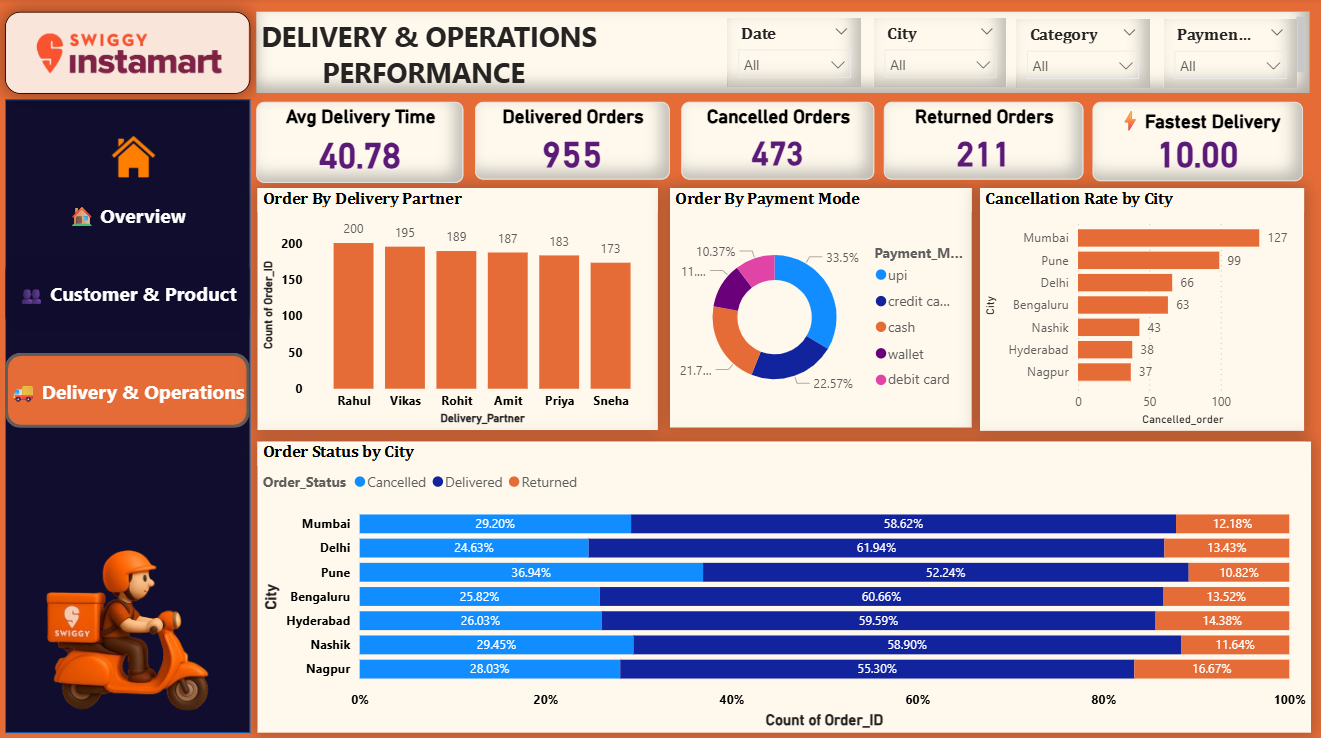

The page's visual inventory and layout, read from the dashboard file:
{"tool":"powerbi","page":{"name":"DELIVERY & OPERATIONS          PERFORMANCE","canvas":[1280,720],"ordinal":3},"visuals":[{"type":"textbox","box":[252.1,13.3,1017,78.4],"z":0},{"type":"shape","box":[9.4,97.5,236.9,611.9],"z":1000},{"type":"image","box":[101.5,130.8,64.8,45.2],"z":2000},{"type":"image","box":[0,473.1,260.6,246.6],"z":3000},{"type":"slicer","fields":{"Values":["DateTable.Date"]},"box":[717.1,17.3,128.4,66.4],"z":4000},{"type":"actionButton","box":[9.8,183.4,236,51.4],"z":8000},{"type":"actionButton","box":[9.8,342.4,236,72.1],"z":9000},{"type":"image","box":[10.1,13,236.6,79.4],"z":10000},{"type":"columnChart","title":"Delivery Partner Performance","fields":{"Category":["swiggy_instamartdb swiggy_instamart_final.Delivery_Partner"],"Y":["Table.Total Orders"]},"box":[252.8,183,398.6,232.7],"z":11000},{"type":"columnChart","title":"Customers by Payment Mode","fields":{"Category":["swiggy_instamartdb swiggy_instamart_final.Payment_Mode"],"Y":["CountNonNull(swiggy_instamartdb swiggy_instamart_final.Order_ID)"]},"box":[1051.7,426.6,218.7,282.3],"z":12000},{"type":"clusteredBarChart","title":"Average Delivery Time by City","fields":{"Y":["Table.Avg Delivery Time"],"Category":["swiggy_instamartdb swiggy_instamart_final.City"]},"box":[660.8,426.6,383.1,282.3],"z":13000},{"type":"barChart","title":"Cancellation Rate by City","fields":{"Category":["swiggy_instamartdb swiggy_instamart_final.City"],"Y":["Table.Cancelled_order"]},"box":[252.8,423.5,398.6,285.4],"z":14000},{"type":"card","title":"Avg Delivery Time","fields":{"Values":["Table.Avg Delivery Time"]},"box":[252.1,100.1,177.3,76],"z":15000},{"type":"card","title":"Delivered Orders","fields":{"Values":["Table.Delivered Orders"]},"box":[437.9,100.1,158,76],"z":16000},{"type":"card","title":"Cancelled Orders","fields":{"Values":["Table.Cancelled_order"]},"box":[604.4,100.1,170.1,76],"z":17000},{"type":"card","title":" Returned Orders","fields":{"Values":["Table.Total Quantity"]},"box":[965.2,102.5,158,74.8],"z":18000},{"type":"card","title":"Delivery Success","fields":{"Values":["Table.Delivery Success %"]},"box":[1128.6,103.1,141.2,76.3],"z":19000},{"type":"card","title":"⚡Fastest Delivery","fields":{"Values":["Table.Fastest Delivery"]},"box":[781.8,100.8,176.8,76],"z":20000},{"type":"hundredPercentStackedBarChart","title":"Order Status by City","fields":{"Category":["swiggy_instamartdb swiggy_instamart_final.City"],"Series":["swiggy_instamartdb swiggy_instamart_final.Order_Status"],"Y":["CountNonNull(swiggy_instamartdb swiggy_instamart_final.Order_ID)"]},"box":[662.3,183,608.1,232.7],"z":21000},{"type":"actionButton","box":[10.1,248.2,236.6,73.6],"z":22000},{"type":"slicer","fields":{"Values":["swiggy_instamartdb swiggy_instamart_final.City"]},"box":[852.5,19.1,126,66.2],"z":22001},{"type":"slicer","fields":{"Values":["swiggy_instamartdb swiggy_instamart_final.Category"]},"box":[987.4,19.1,128.5,66.2],"z":22002},{"type":"slicer","fields":{"Values":["swiggy_instamartdb swiggy_instamart_final.Payment_Mode"]},"box":[1123.5,19.1,128.5,66.2],"z":22003}]}

Visuals, with their boxes in screenshot pixels (x1, y1, x2, y2), scaled from the page's 1280x720 canvas onto the 1321x738 screenshot:
textbox: x1=260 y1=14 x2=1310 y2=94
shape: x1=10 y1=100 x2=254 y2=727
image: x1=105 y1=134 x2=172 y2=180
image: x1=0 y1=485 x2=269 y2=737
slicer - DateTable.Date: x1=740 y1=18 x2=873 y2=86
actionButton: x1=10 y1=188 x2=254 y2=241
actionButton: x1=10 y1=351 x2=254 y2=425
image: x1=10 y1=13 x2=255 y2=95
"Delivery Partner Performance" columnChart: x1=261 y1=188 x2=672 y2=426
"Customers by Payment Mode" columnChart: x1=1085 y1=437 x2=1311 y2=727
"Average Delivery Time by City" clusteredBarChart: x1=682 y1=437 x2=1077 y2=727
"Cancellation Rate by City" barChart: x1=261 y1=434 x2=672 y2=727
"Avg Delivery Time" card: x1=260 y1=103 x2=443 y2=181
"Delivered Orders" card: x1=452 y1=103 x2=615 y2=181
"Cancelled Orders" card: x1=624 y1=103 x2=799 y2=181
" Returned Orders" card: x1=996 y1=105 x2=1159 y2=182
"Delivery Success" card: x1=1165 y1=106 x2=1310 y2=184
"⚡Fastest Delivery" card: x1=807 y1=103 x2=989 y2=181
"Order Status by City" hundredPercentStackedBarChart: x1=684 y1=188 x2=1311 y2=426
actionButton: x1=10 y1=254 x2=255 y2=330
slicer - swiggy_instamartdb swiggy_instamart_final.City: x1=880 y1=20 x2=1010 y2=87
slicer - swiggy_instamartdb swiggy_instamart_final.Category: x1=1019 y1=20 x2=1152 y2=87
slicer - swiggy_instamartdb swiggy_instamart_final.Payment_Mode: x1=1159 y1=20 x2=1292 y2=87
